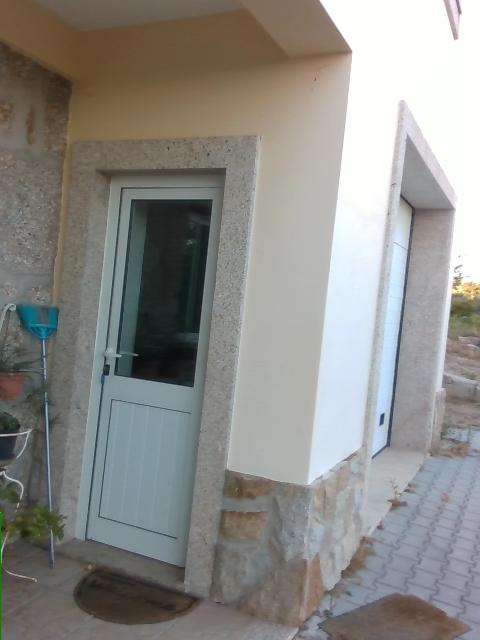door: (75, 170, 227, 567)
